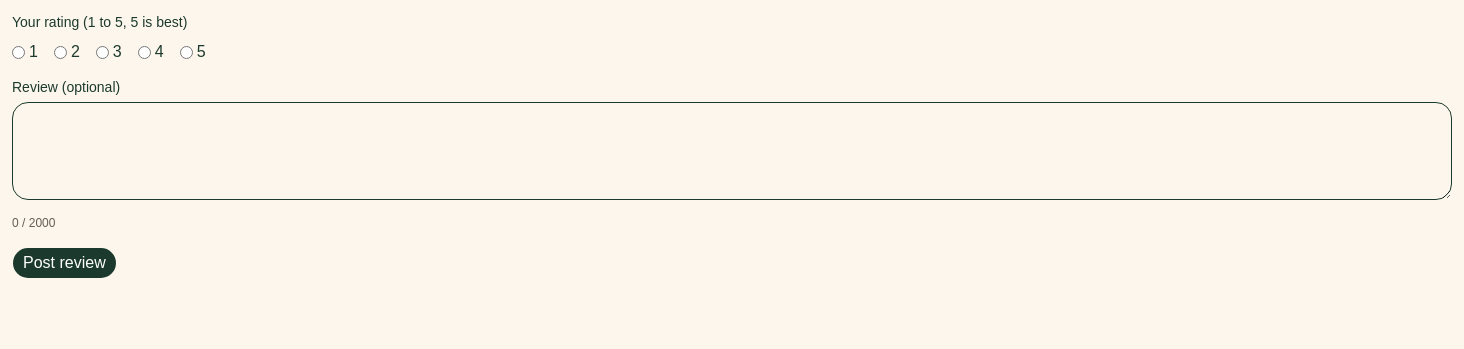
Test: ReviewForm › shows a generic message when the failure is not an Error
This screenshot has width=1464, height=349.
Step 1. Click the radio button labelled "2" → (60, 52), box [54, 46, 67, 58]
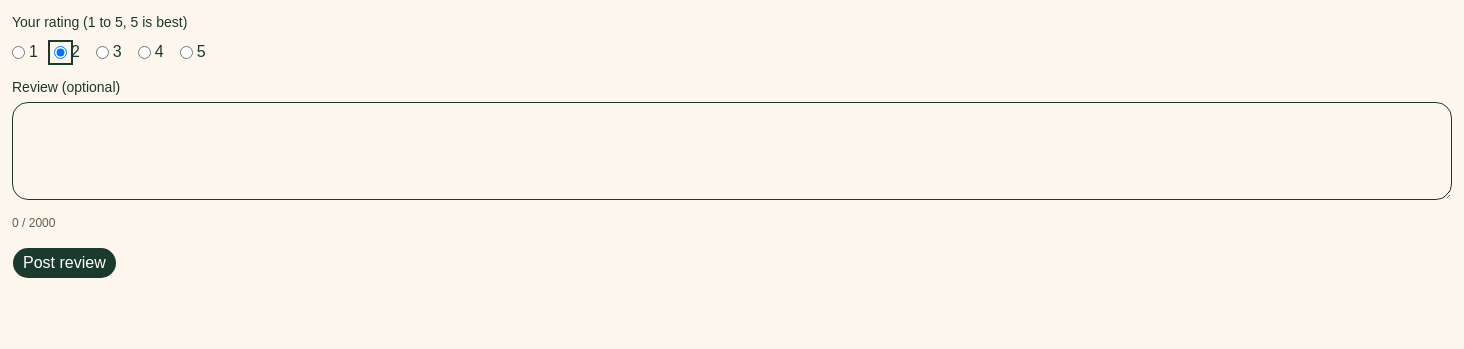
Step 2. Click the button "Post review" → (64, 263), box [12, 247, 117, 279]
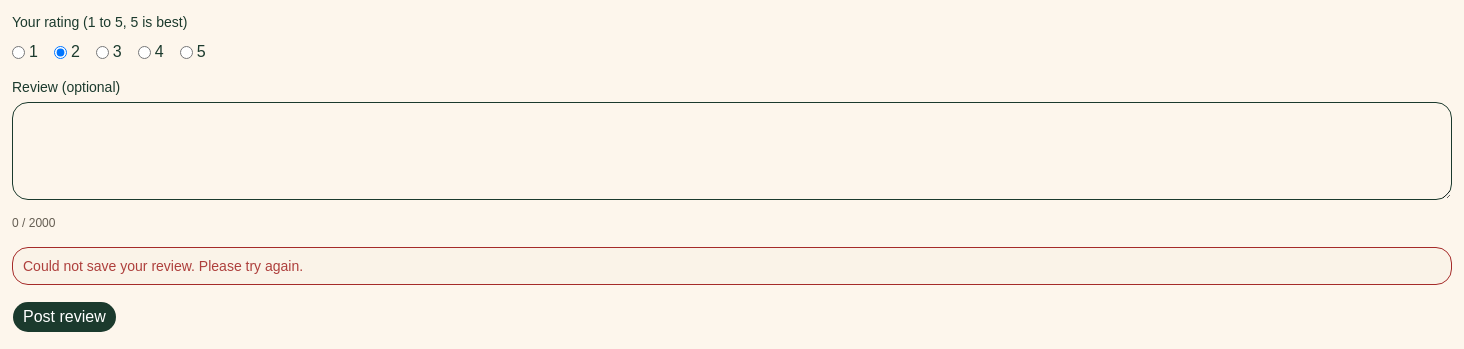
Result: the text "Could not save your review. Please try again." is shown at [23, 258, 303, 274]
